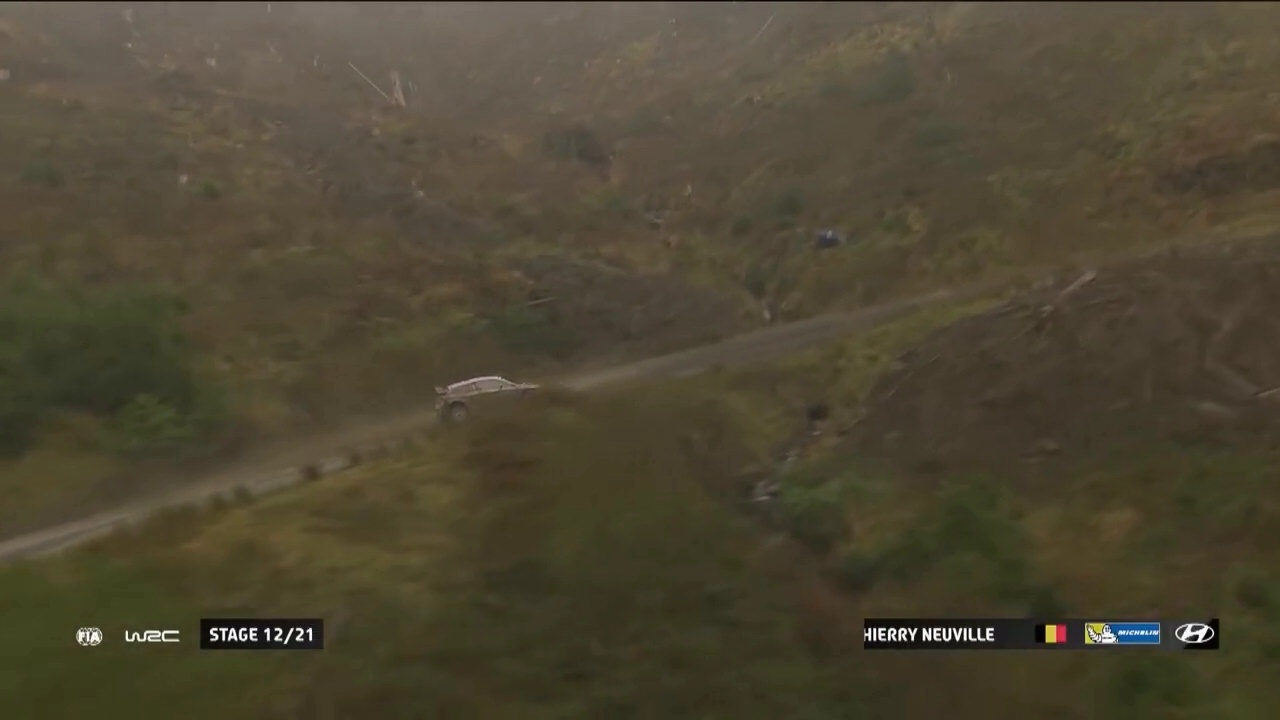araba: (432, 376, 548, 427)
